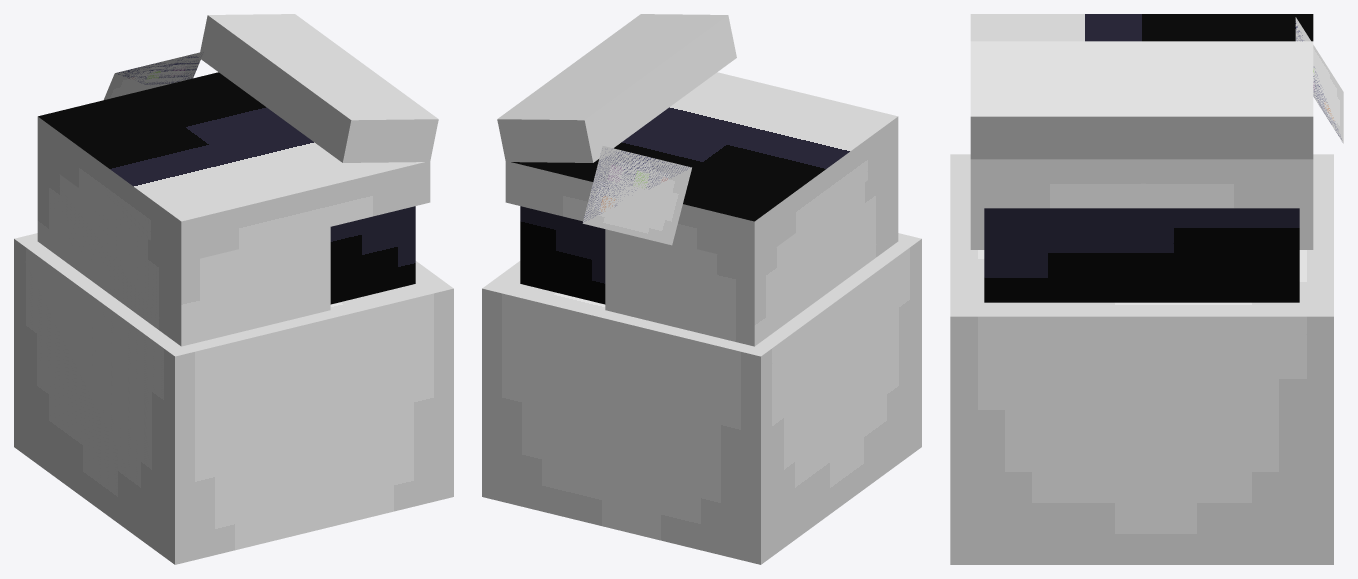
File: Printer.glb
3 views of the same model, side by side, from view 1: azimuth 30°, elevation 25°; view 2: azimuth 150°, elevation 25°; view 3: azimuth 270°, elevation 25° (orthographic). The views are drawn at different scales.
Parts seen in each view (by area): view 1: printer; view 2: printer; view 3: printer.
Boxes of the visible parts, <box> form: printer: <box>14,14,453,564</box>; printer: <box>482,14,921,564</box>; printer: <box>950,14,1343,564</box>.
Size of the model in its own units: 0.875 by 1.18 by 0.8973.
1 material, 1 textured.
